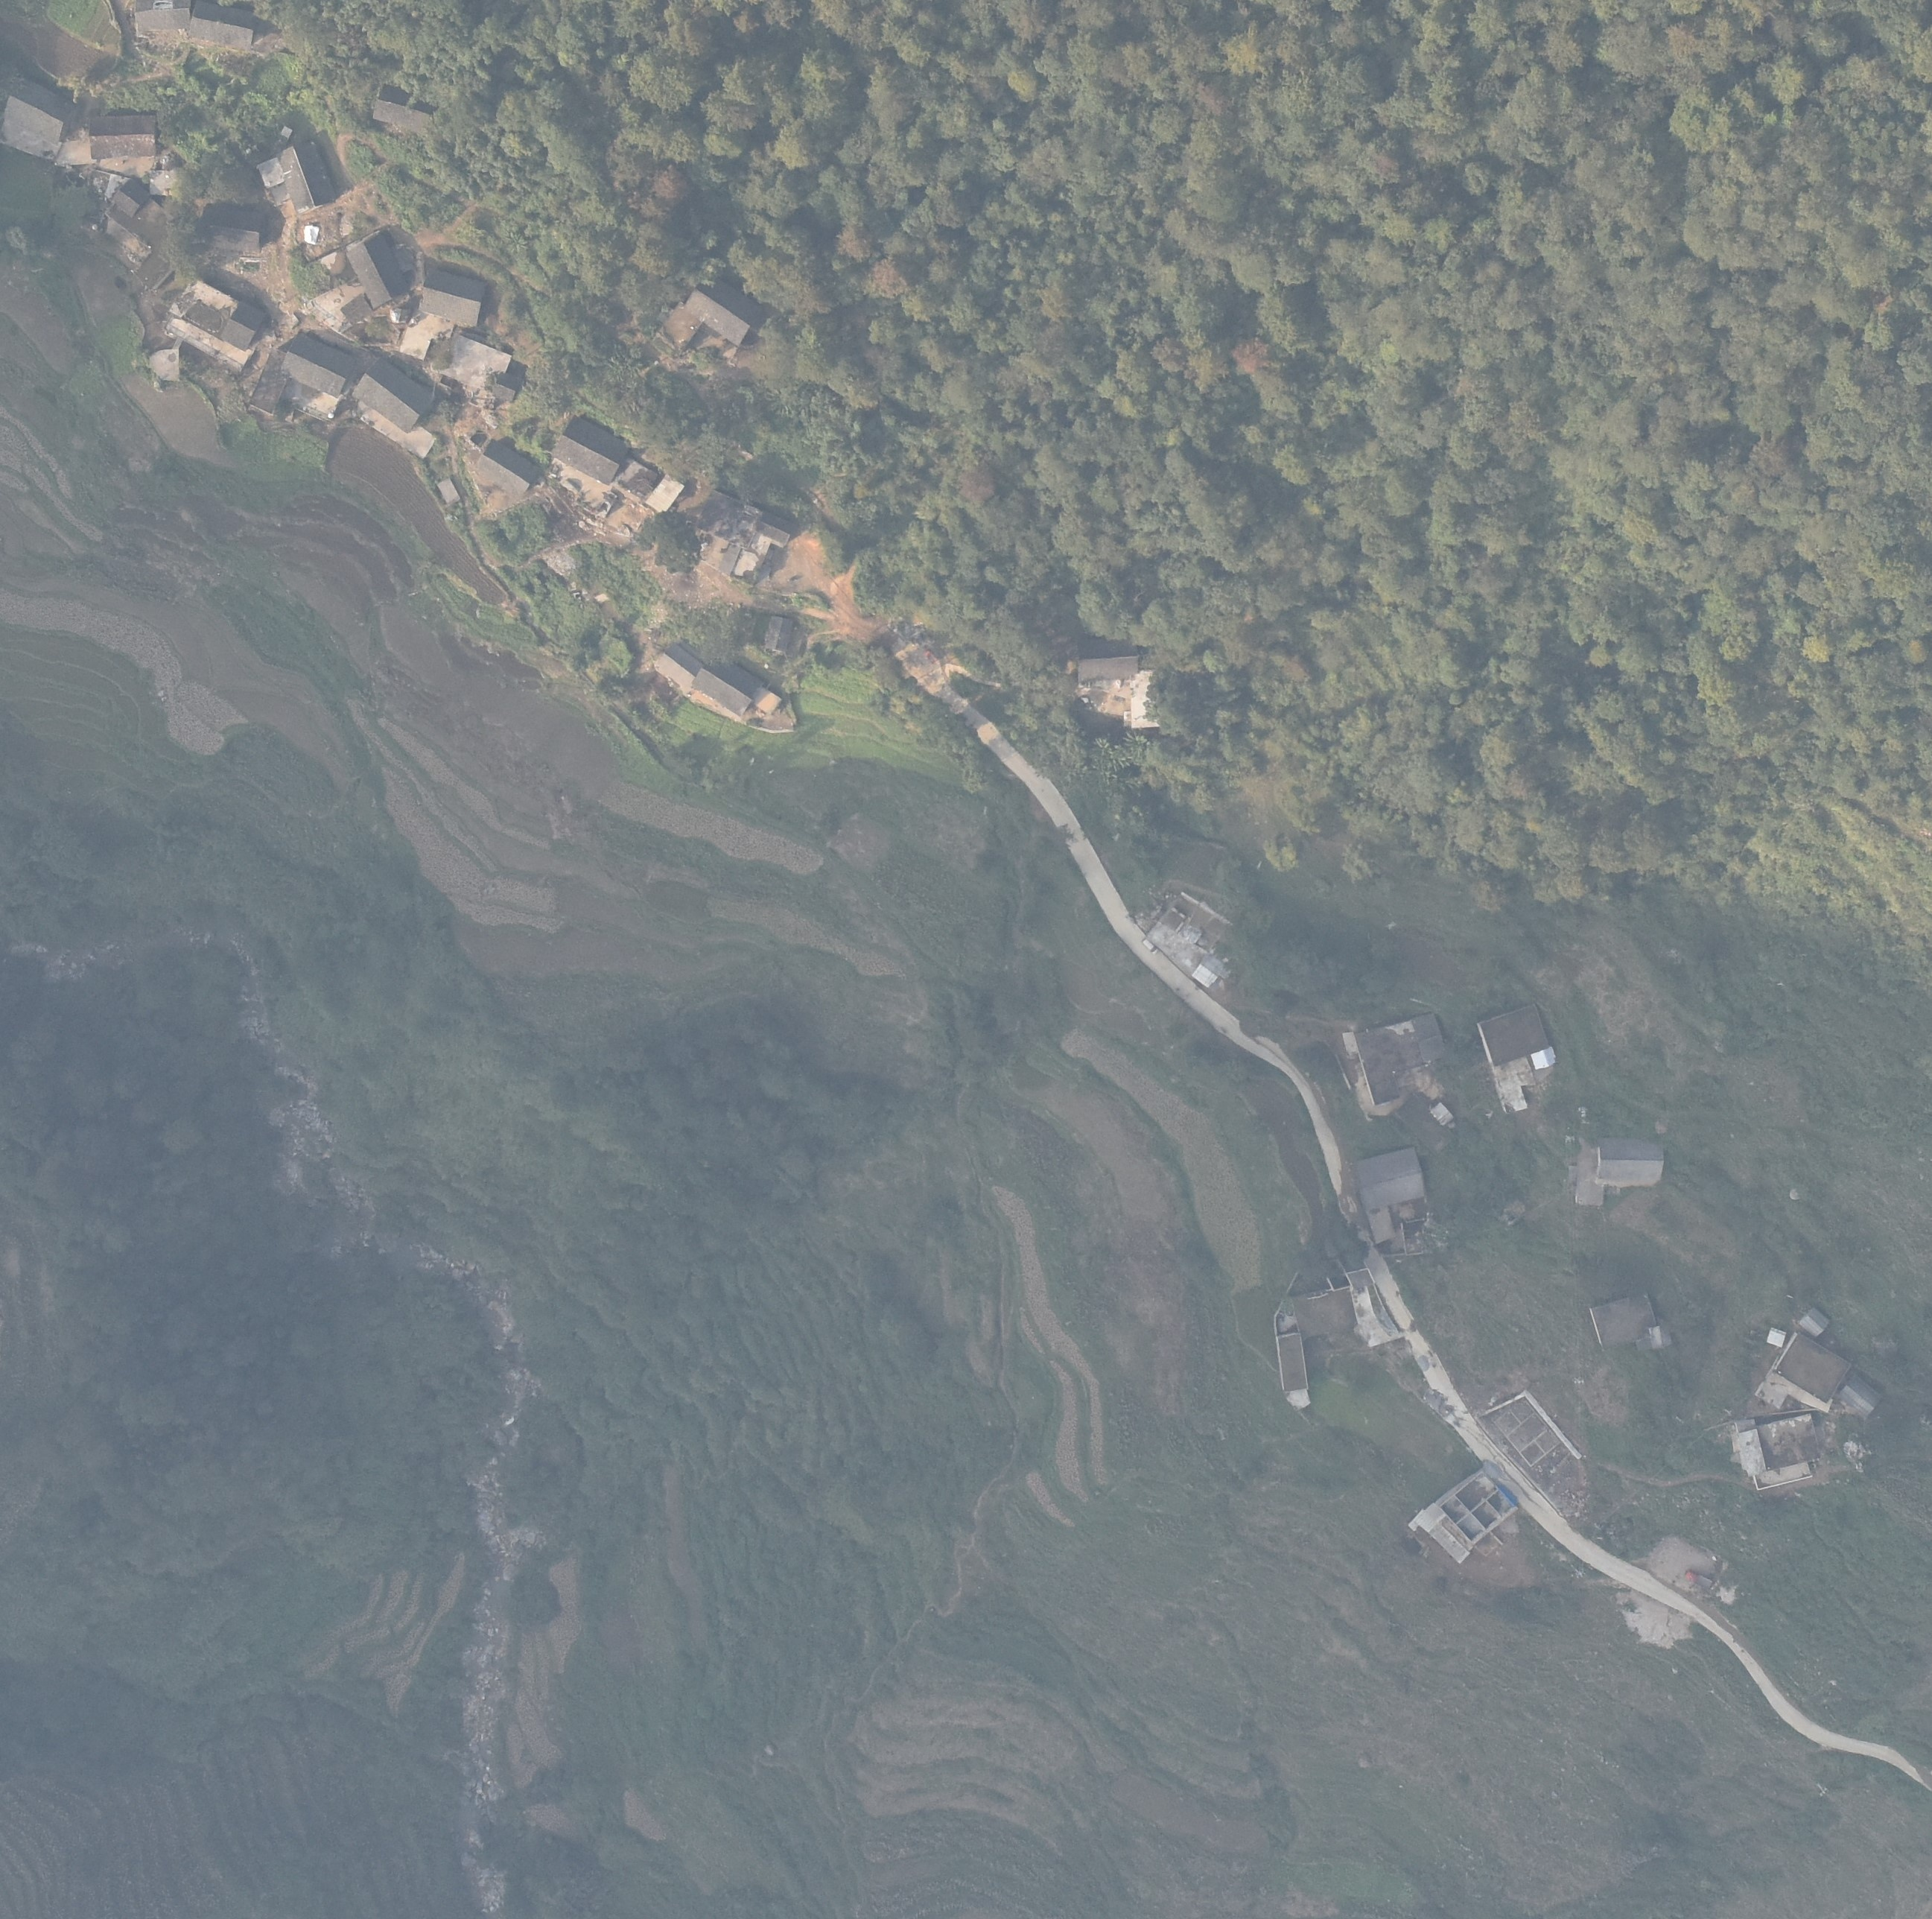building: (1413, 1468, 1521, 1567), (1354, 1014, 1452, 1120), (691, 487, 792, 586), (167, 276, 269, 353), (1732, 1413, 1833, 1479), (354, 358, 437, 433), (340, 229, 413, 313), (687, 276, 764, 354), (553, 413, 630, 489), (1344, 1263, 1408, 1355), (1473, 1001, 1555, 1072), (1771, 1336, 1853, 1406), (1353, 1144, 1432, 1214), (280, 332, 357, 402), (3, 75, 79, 144), (274, 138, 341, 213), (1580, 1291, 1662, 1351), (687, 655, 763, 717), (79, 110, 165, 165), (418, 267, 490, 331), (474, 438, 544, 498), (1592, 1135, 1671, 1187), (371, 83, 444, 139), (1291, 1286, 1361, 1345), (183, 1, 258, 51), (194, 200, 267, 250), (649, 296, 705, 359), (1128, 666, 1176, 738), (247, 342, 290, 419), (1072, 645, 1148, 682), (1271, 1330, 1312, 1395), (132, 1, 195, 42), (652, 641, 704, 688), (613, 453, 657, 502), (644, 470, 689, 516), (1361, 1203, 1398, 1245), (109, 178, 148, 216), (762, 612, 794, 654), (337, 294, 377, 326), (1192, 953, 1227, 989), (1796, 1307, 1833, 1342), (1646, 1324, 1682, 1357), (254, 157, 286, 190), (433, 477, 467, 508), (492, 372, 524, 403), (1426, 1103, 1455, 1126)
prefabricated-house: (1835, 1375, 1883, 1418), (1530, 1047, 1558, 1072), (1764, 1325, 1789, 1350)
vehicle: (1683, 1568, 1724, 1592), (1137, 935, 1158, 954)
